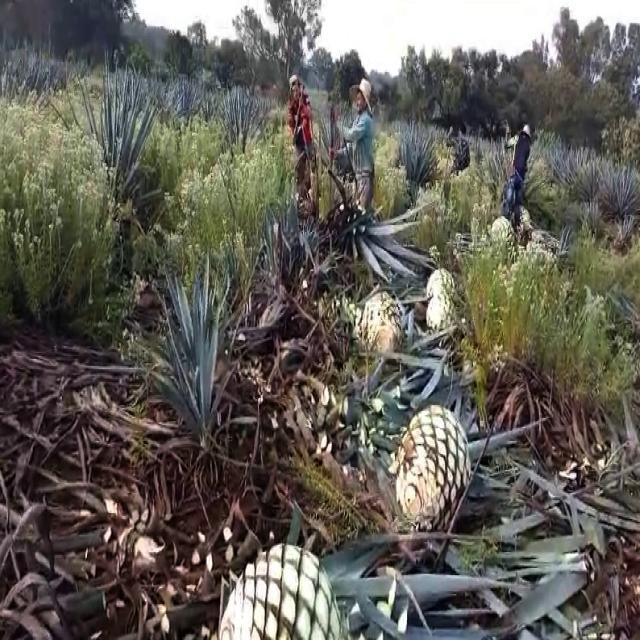agave: (210, 533, 344, 640), (396, 392, 473, 527), (359, 288, 404, 357), (426, 291, 458, 335), (427, 262, 457, 306), (489, 212, 513, 246)
